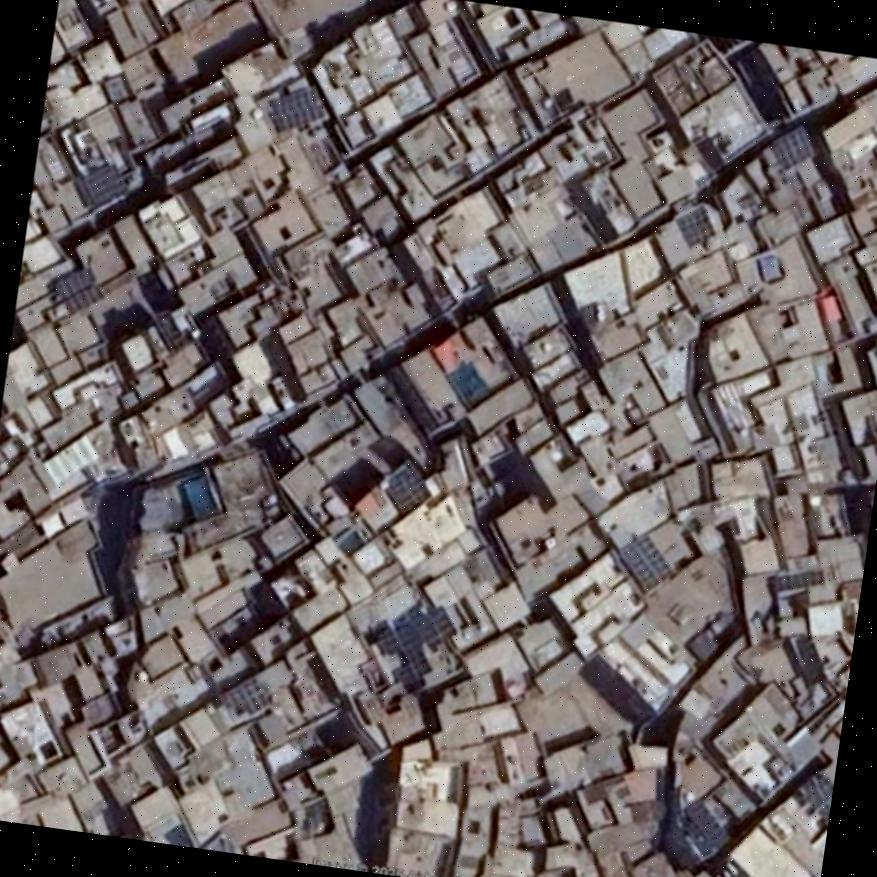Solarpanel: (614, 534, 675, 594), (269, 85, 327, 133), (51, 262, 104, 313), (382, 462, 430, 514), (394, 617, 433, 680), (77, 162, 127, 207), (407, 605, 443, 653), (775, 124, 814, 167), (227, 678, 272, 711), (678, 202, 712, 245), (425, 602, 455, 640), (771, 570, 825, 589)
